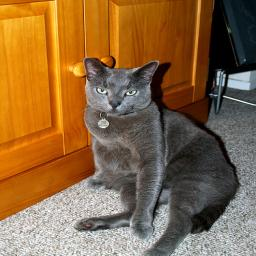catnose: (105, 98, 123, 110)
